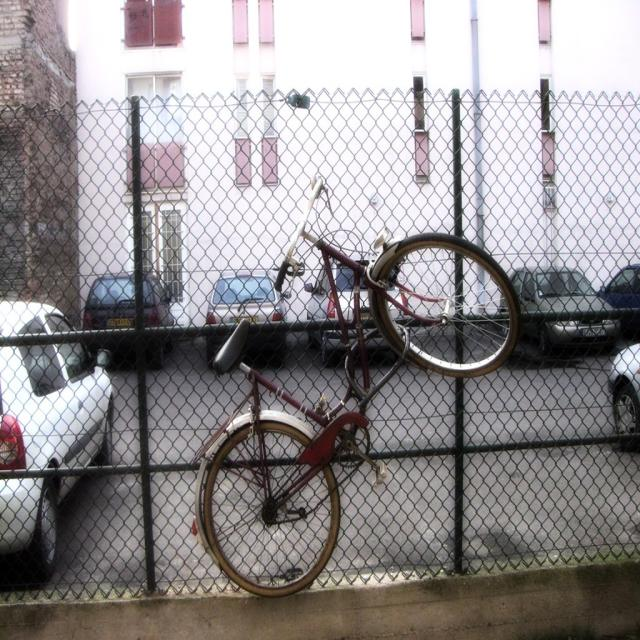car: (0, 303, 114, 589)
